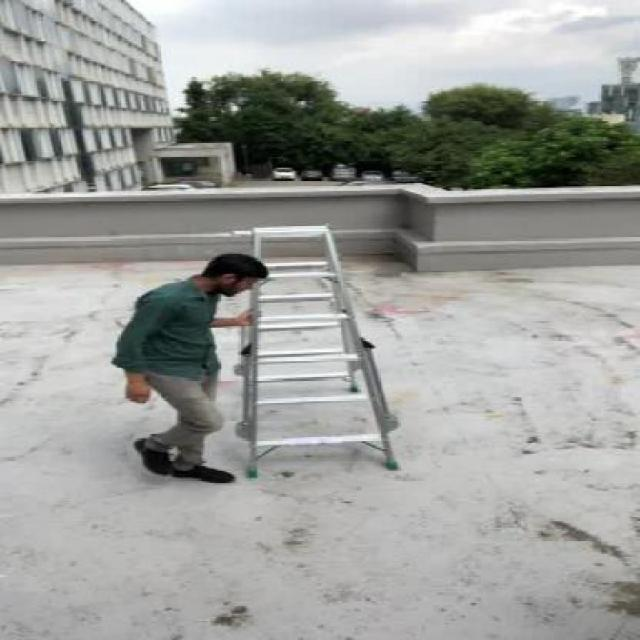hard hat: (214, 217, 422, 479)
vest: (111, 247, 277, 486)
